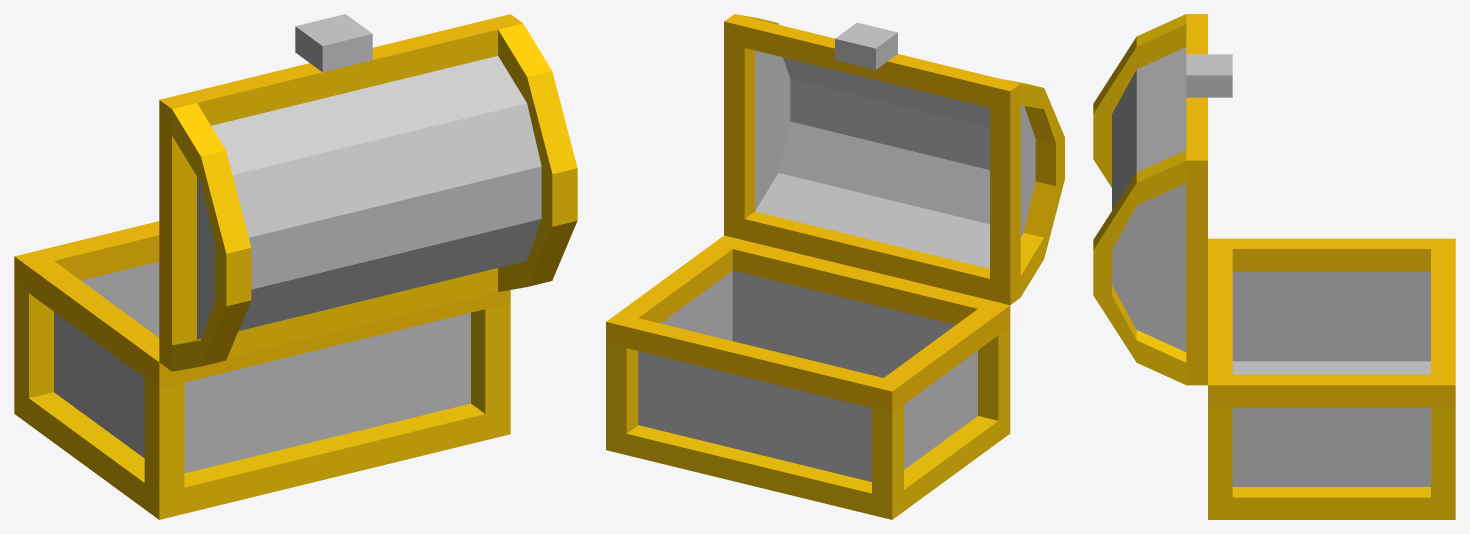
The model's file is ChestOpen.obj.
3 views of the same model, side by side, from view 1: azimuth 30°, elevation 25°; view 2: azimuth 150°, elevation 25°; view 3: azimuth 270°, elevation 25° (orthographic). The views are drawn at different scales.
Parts seen in each view (by area): view 1: ChestOpen_back; view 2: ChestOpen_back; view 3: ChestOpen_back.
Part boxes in pixels (x1,y1,x2,y2): ChestOpen_back: (14, 14, 577, 519); ChestOpen_back: (606, 14, 1064, 519); ChestOpen_back: (1093, 14, 1455, 519).
Size of the model in its own units: 1.12 by 1.36 by 1.17.
